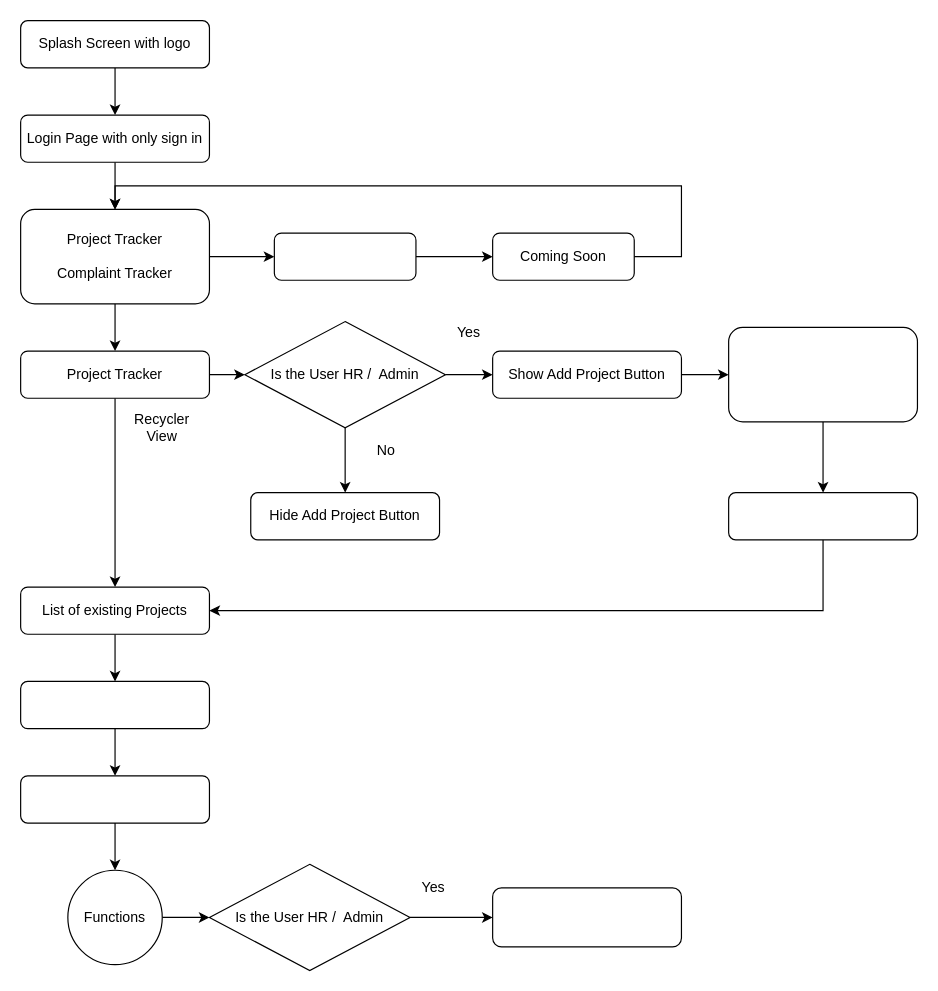
Some shapes in this 938 by 991 pixel diagram are drawn without their labels. Here are the shapes that lost their labels. From the top down, the centre of each, then its label:
At point 344,256: "Complaint".
At point 822,374: "Add Projects (Project Name Site Location City)".
At point 822,515: "On Register New Project".
At point 114,704: "On Project Selection".
At point 114,799: "Display Project Details And Functions".
At point 586,917: "Add Team".
